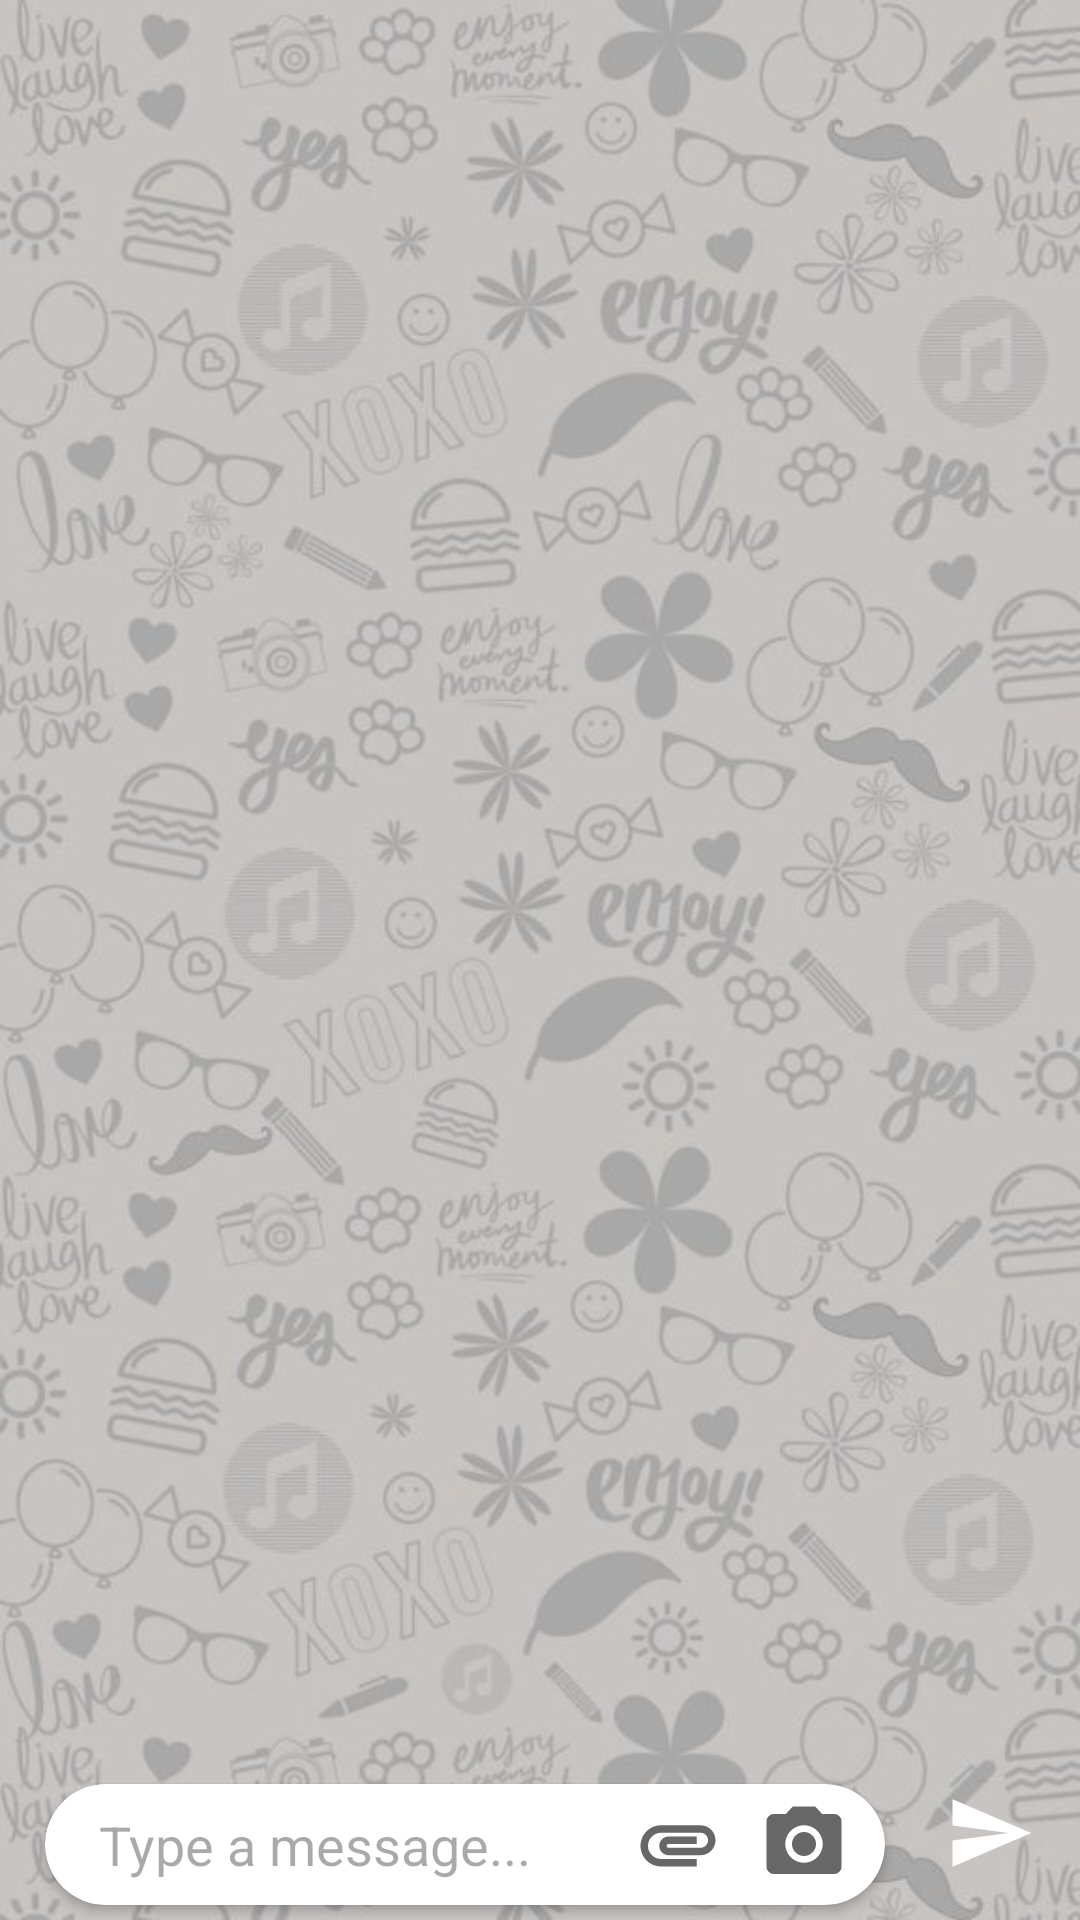

Icon bounding boxes for this 1080×1920 phone screenshot, format BBox(x1, y1, x2, y2):
attachment: BBox(640, 1825, 716, 1867)
camera: BBox(766, 1806, 842, 1874)
send: BBox(916, 1761, 1065, 1903)
